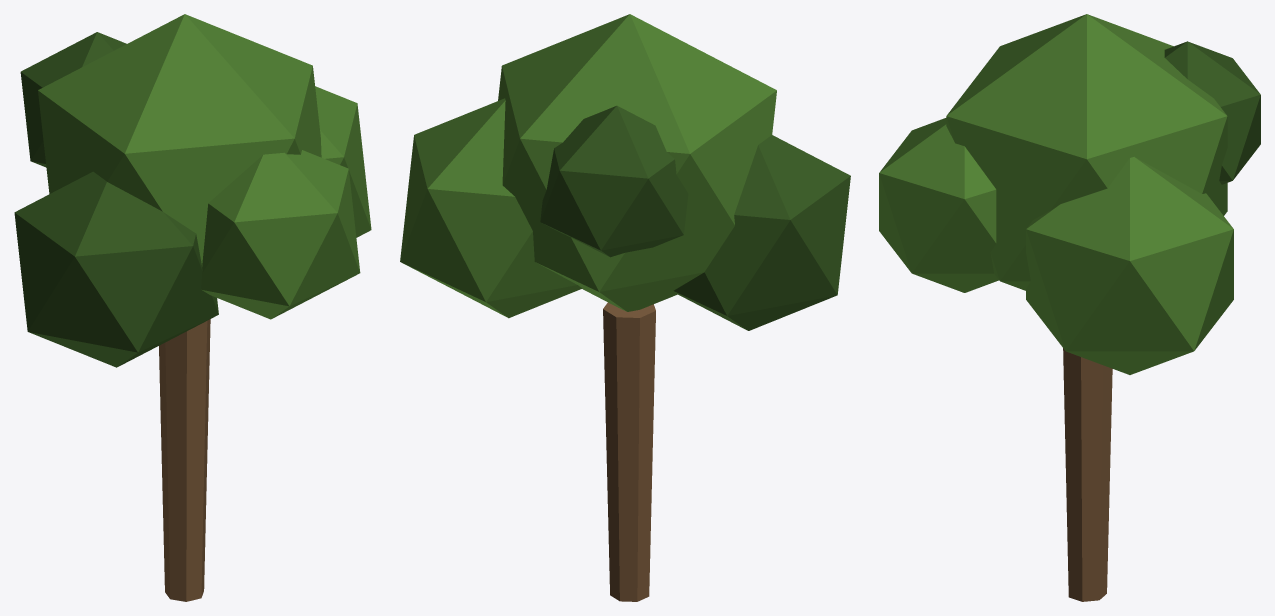
The model's file is landscape.broadleaf.glb.
3 views of the same model, side by side, from view 1: azimuth 30°, elevation 25°; view 2: azimuth 150°, elevation 25°; view 3: azimuth 270°, elevation 25° (orthographic).
Visible parts, largest first — view 1: landscape.broadleaf; view 2: landscape.broadleaf; view 3: landscape.broadleaf.
Boxes of the visible parts, x1,y1,x2,y2 form: landscape.broadleaf: (14,14,371,601); landscape.broadleaf: (400,14,850,601); landscape.broadleaf: (879,14,1260,601).
Bounding box in the file's own units: 3.03 × 4.45 × 2.66.
